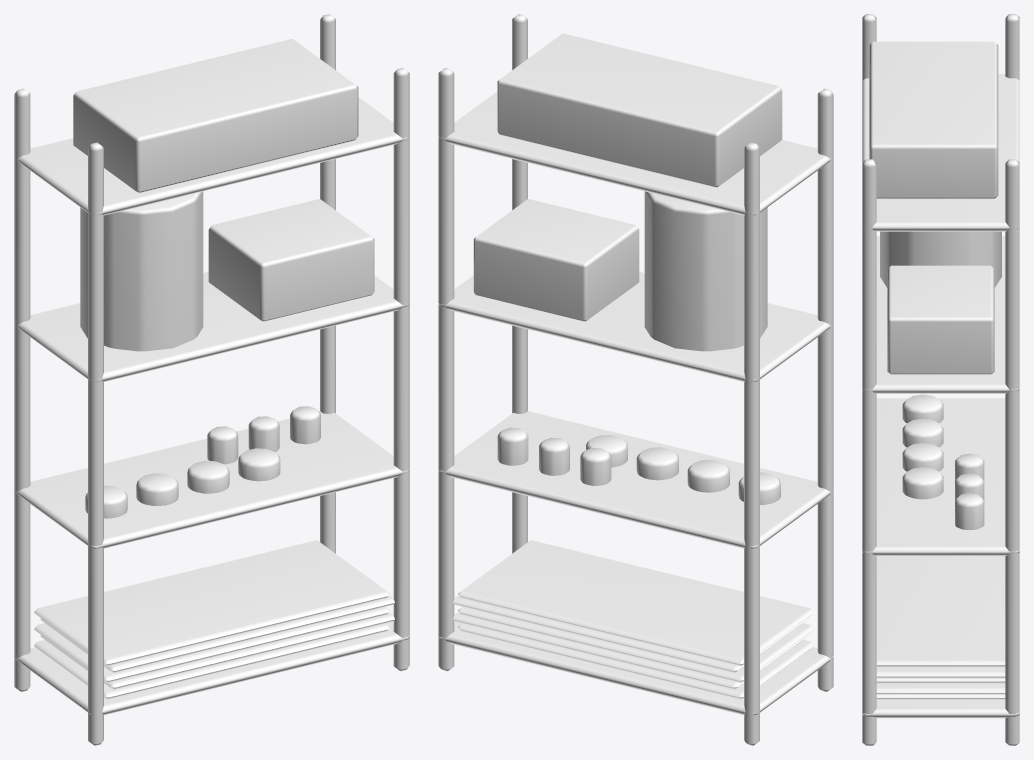
The model's file is supply_shelf.glb.
The picture shows the model from 3 angles, left to right: view 1: azimuth 30°, elevation 25°; view 2: azimuth 150°, elevation 25°; view 3: azimuth 270°, elevation 25°; orthographic projection. The views are drawn at different scales.
Visible parts, largest first — view 1: SupplyShelf; view 2: SupplyShelf; view 3: SupplyShelf.
Boxes of the visible parts, box(x1,y1,x2,y2) form: SupplyShelf: box(14, 14, 409, 745); SupplyShelf: box(438, 14, 833, 745); SupplyShelf: box(862, 14, 1019, 745).
Size of the model in its own units: 1 by 1.8 by 0.44.
Materials: 1 (1 with a texture image).
